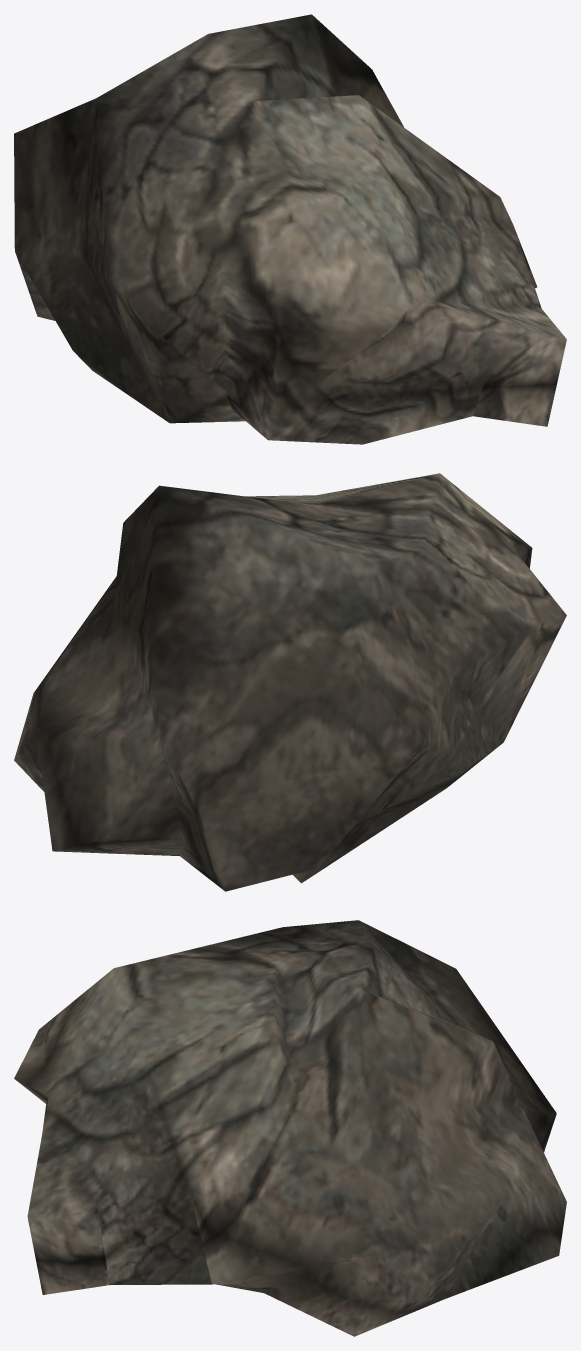
File: Clif_rock_02.fbx
3 views of the same model, one above another, from view 1: azimuth 30°, elevation 25°; view 2: azimuth 150°, elevation 25°; view 3: azimuth 270°, elevation 25° (orthographic). The views are drawn at different scales.
Visible parts, largest first — view 1: Clif_rock_02; view 2: Clif_rock_02; view 3: Clif_rock_02.
Part boxes in pixels (x1,y1,x2,y2): Clif_rock_02: (14,14,566,444); Clif_rock_02: (14,473,566,891); Clif_rock_02: (14,920,566,1336).
Bounding box in the file's own units: 7.28 × 5.69 × 8.78.
